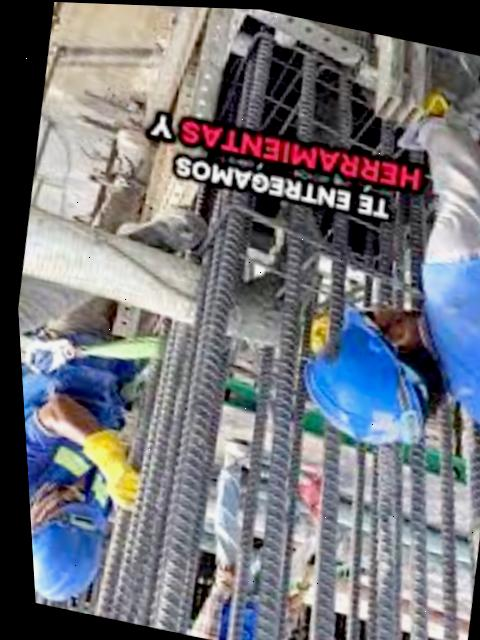helmet: (268, 297, 451, 464), (23, 490, 127, 611)
vest: (18, 376, 154, 527)
